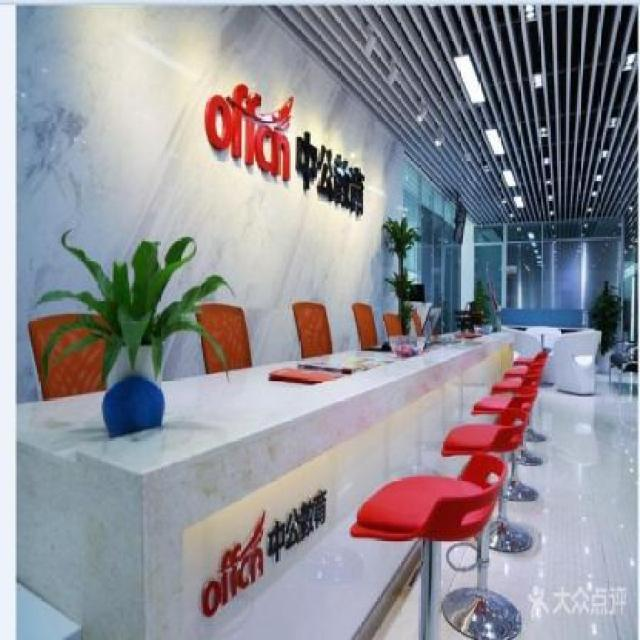frontdesk: (9, 309, 537, 640)
